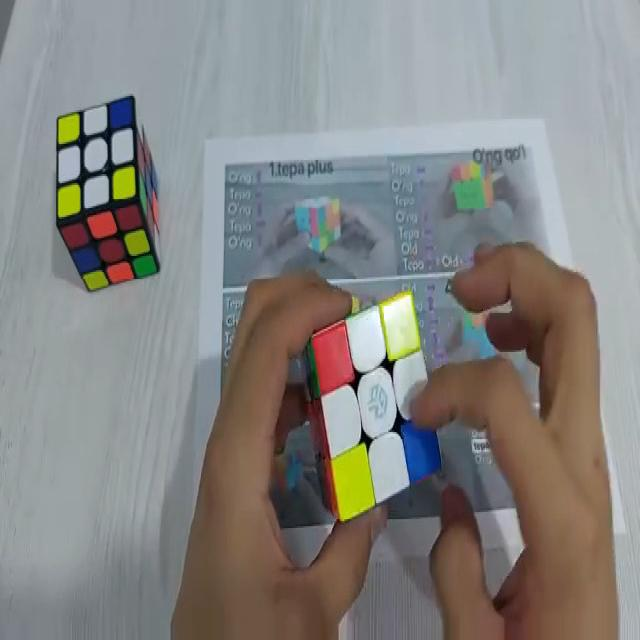Rub: (297, 288, 445, 520), (56, 94, 160, 296)
